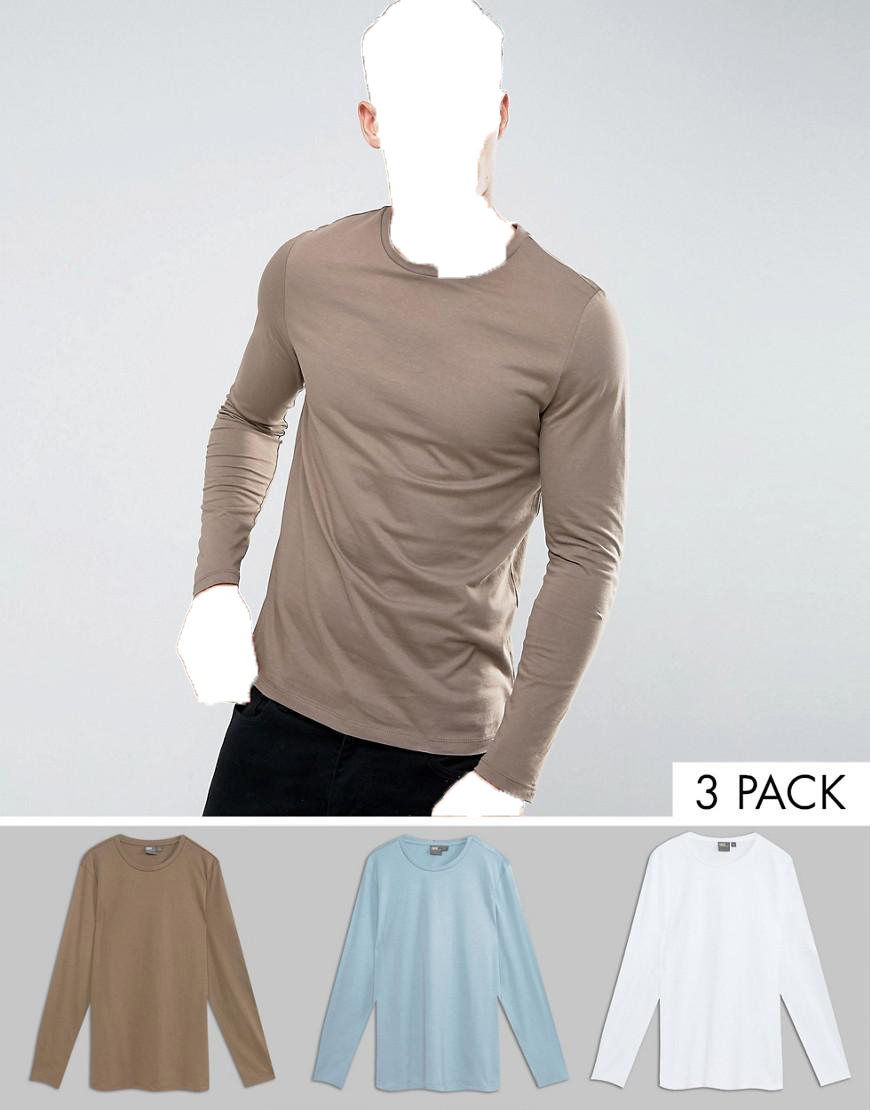teeshirt: (190, 213, 649, 790), (591, 827, 853, 1110), (300, 834, 573, 1095), (30, 835, 283, 1103)
